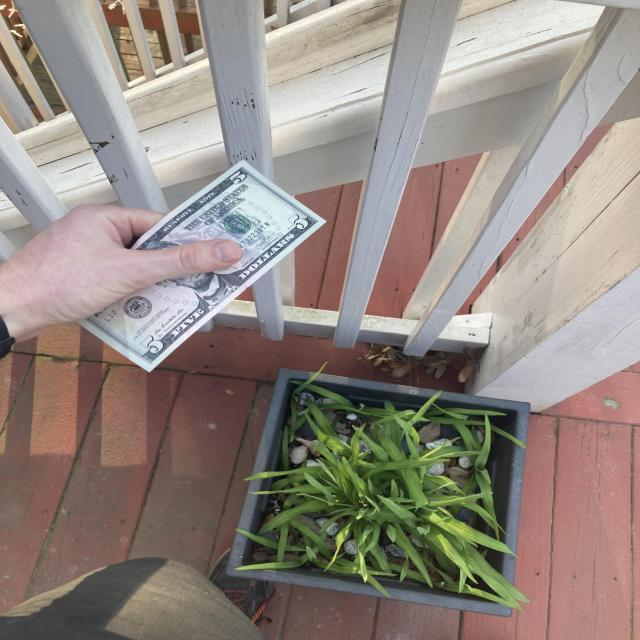five: (67, 161, 326, 372)
